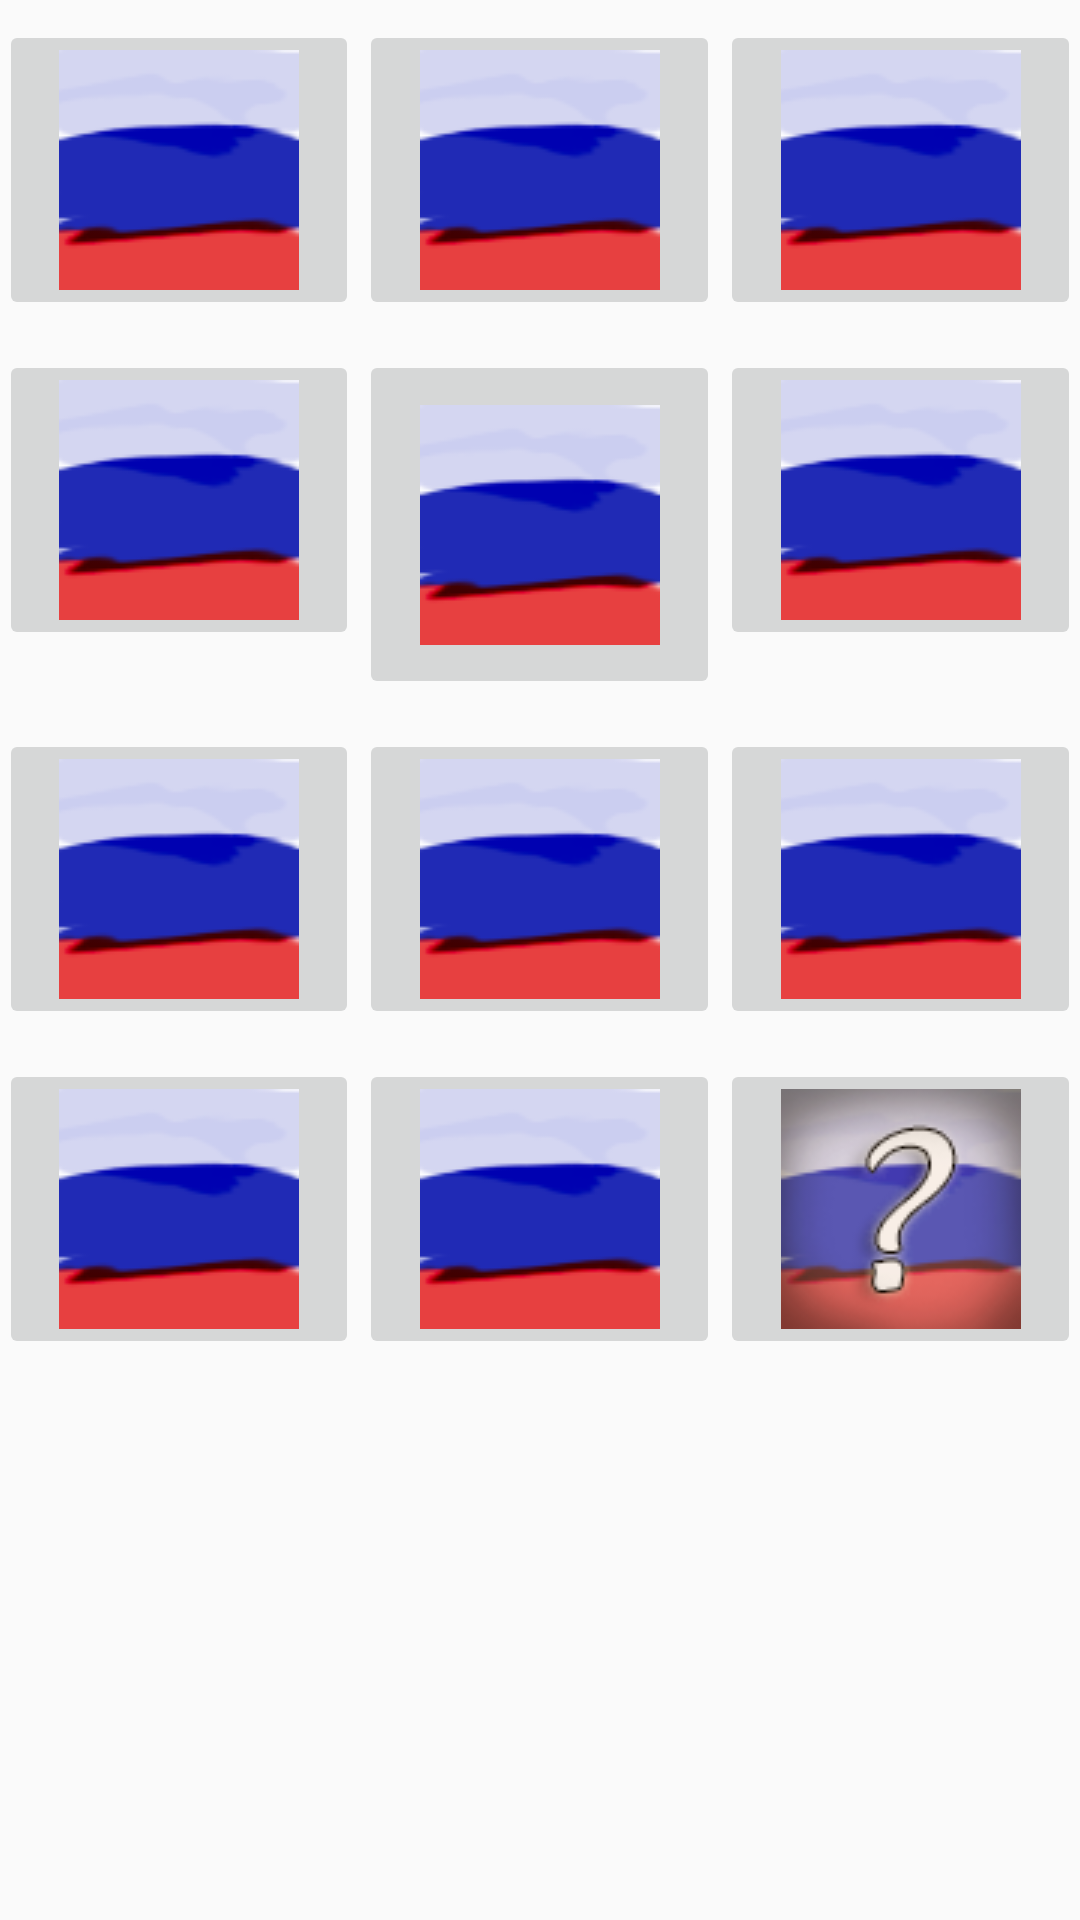

Where to tap for icons on this 1080×1920 app screen, as [x,y]:
ask: [900,1209]
